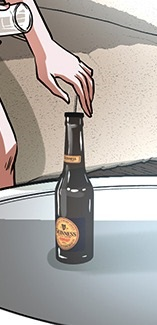bottle: (50, 109, 95, 266)
